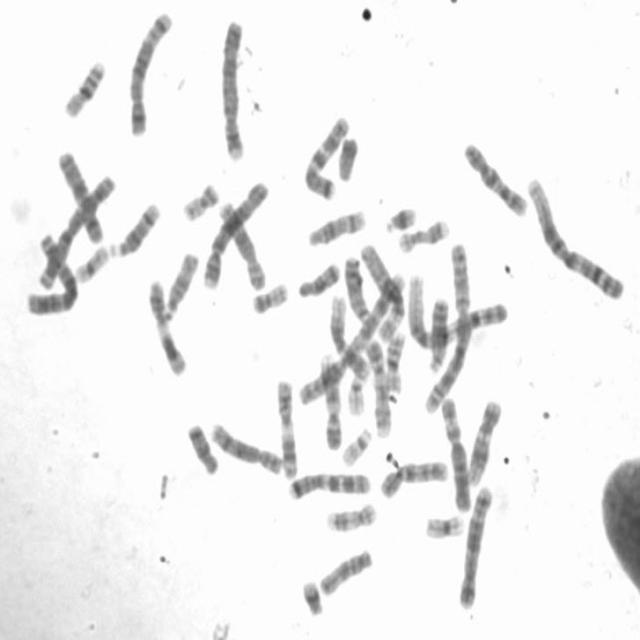A1: (520, 167, 628, 302), (400, 266, 510, 350)
A2: (298, 274, 405, 408), (419, 234, 475, 415)
A3: (33, 164, 118, 291), (19, 225, 80, 317)
B4: (197, 171, 270, 289), (215, 9, 247, 162)
B5: (122, 1, 176, 138), (452, 477, 496, 610)
C10: (458, 132, 530, 218), (374, 451, 451, 500)
C11: (143, 270, 189, 378), (271, 371, 299, 480)
C12: (324, 287, 371, 381), (462, 391, 504, 486)
C6: (354, 235, 407, 342), (435, 389, 474, 513)
C7: (298, 106, 352, 202), (284, 462, 374, 501)
C8: (214, 194, 269, 290), (204, 413, 286, 476)
C9: (358, 330, 394, 440), (314, 345, 344, 451)
D13: (338, 247, 372, 324), (427, 297, 451, 373)
D14: (104, 193, 162, 259), (302, 201, 368, 248)
D15: (313, 541, 375, 597), (159, 243, 201, 318)
E16: (58, 51, 108, 120), (380, 322, 408, 393)
E17: (392, 210, 452, 253), (320, 494, 380, 534)
E18: (181, 414, 221, 476), (292, 253, 342, 300)
F19: (68, 237, 112, 285), (419, 504, 466, 540)
F20: (176, 173, 221, 223), (247, 274, 290, 316)
G21: (379, 197, 419, 234), (296, 571, 325, 617)
G22: (336, 420, 374, 467), (342, 367, 368, 418)
X: (52, 142, 106, 246)
Y: (332, 128, 361, 182)
